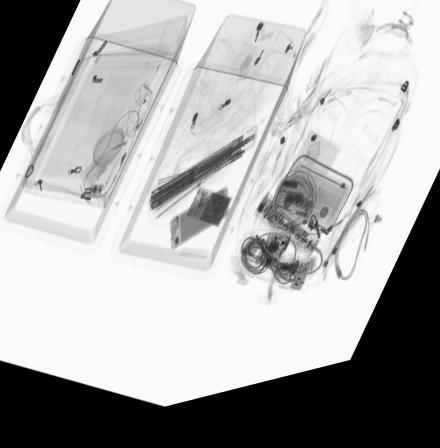Powerbank: (183, 195, 232, 237)
